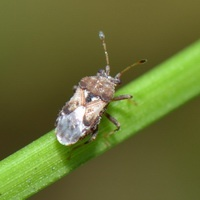insect: (55, 31, 146, 145)
